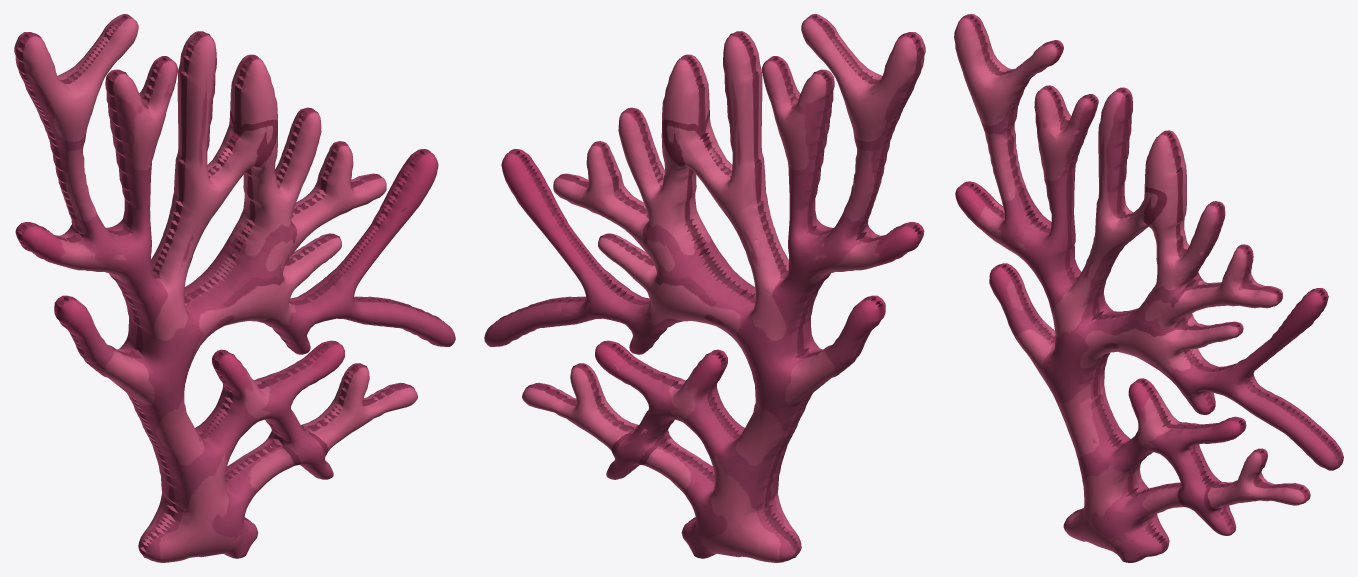
The model's file is red_fan_coral.glb.
3 renders of one model, left to right at view 1: azimuth 30°, elevation 25°; view 2: azimuth 150°, elevation 25°; view 3: azimuth 330°, elevation 25°, orthographic. The views are drawn at different scales.
Visible parts, largest first — view 1: red_fan_coral; view 2: red_fan_coral; view 3: red_fan_coral.
Boxes of the visible parts, box(x1,y1,x2,y2) form: red_fan_coral: box(14, 14, 455, 562); red_fan_coral: box(484, 14, 925, 562); red_fan_coral: box(954, 14, 1343, 562).
Size of the model in its own units: 0.9857 by 1.22 by 0.1747.
1 material, 1 textured.
